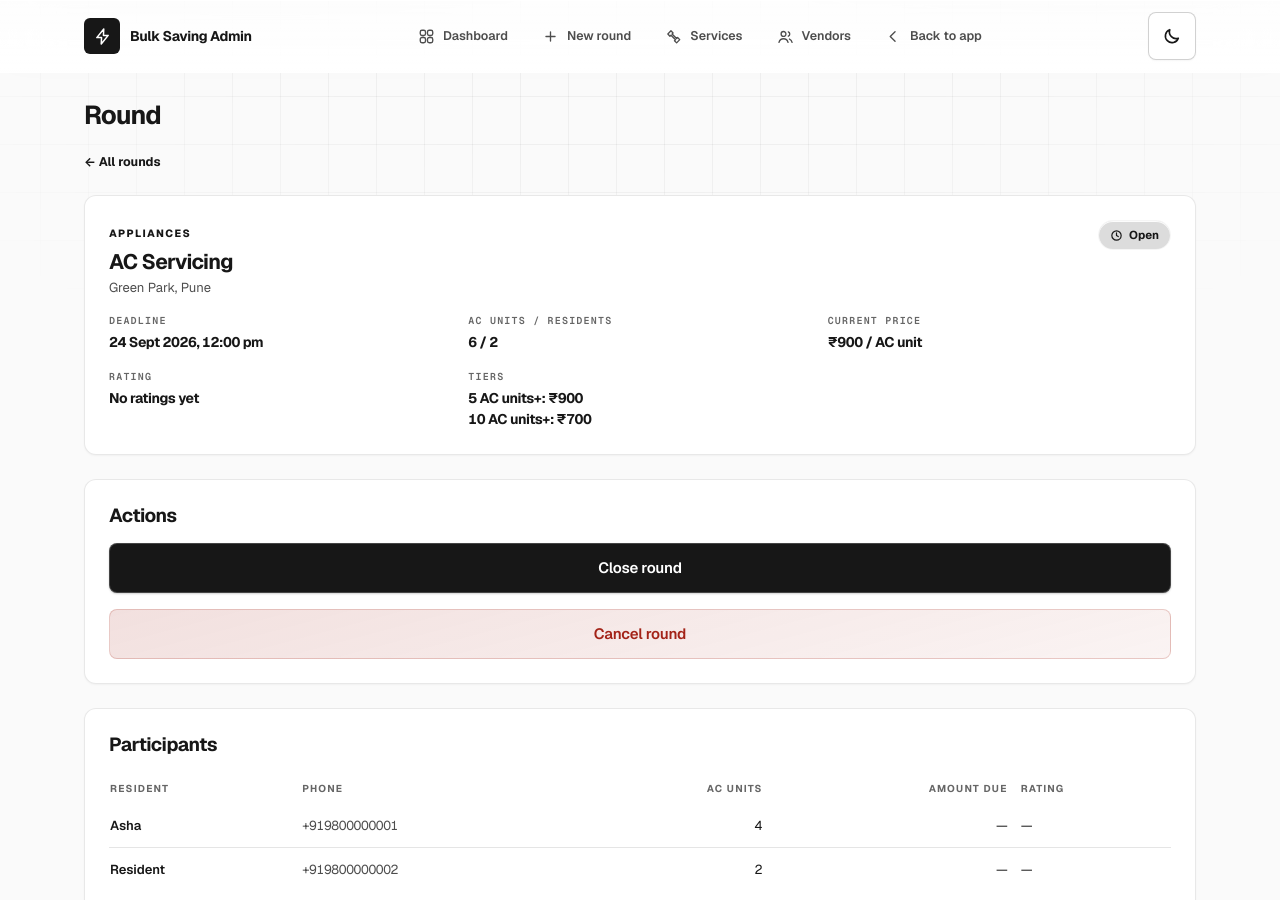
Test: AdminRoundDetailPage › a refused cancel stays in the sheet with its reason (FEAT-024 AC1)
Step 1. Click the button "Cancel round" → point(640, 634), box [109,609,1171,659]
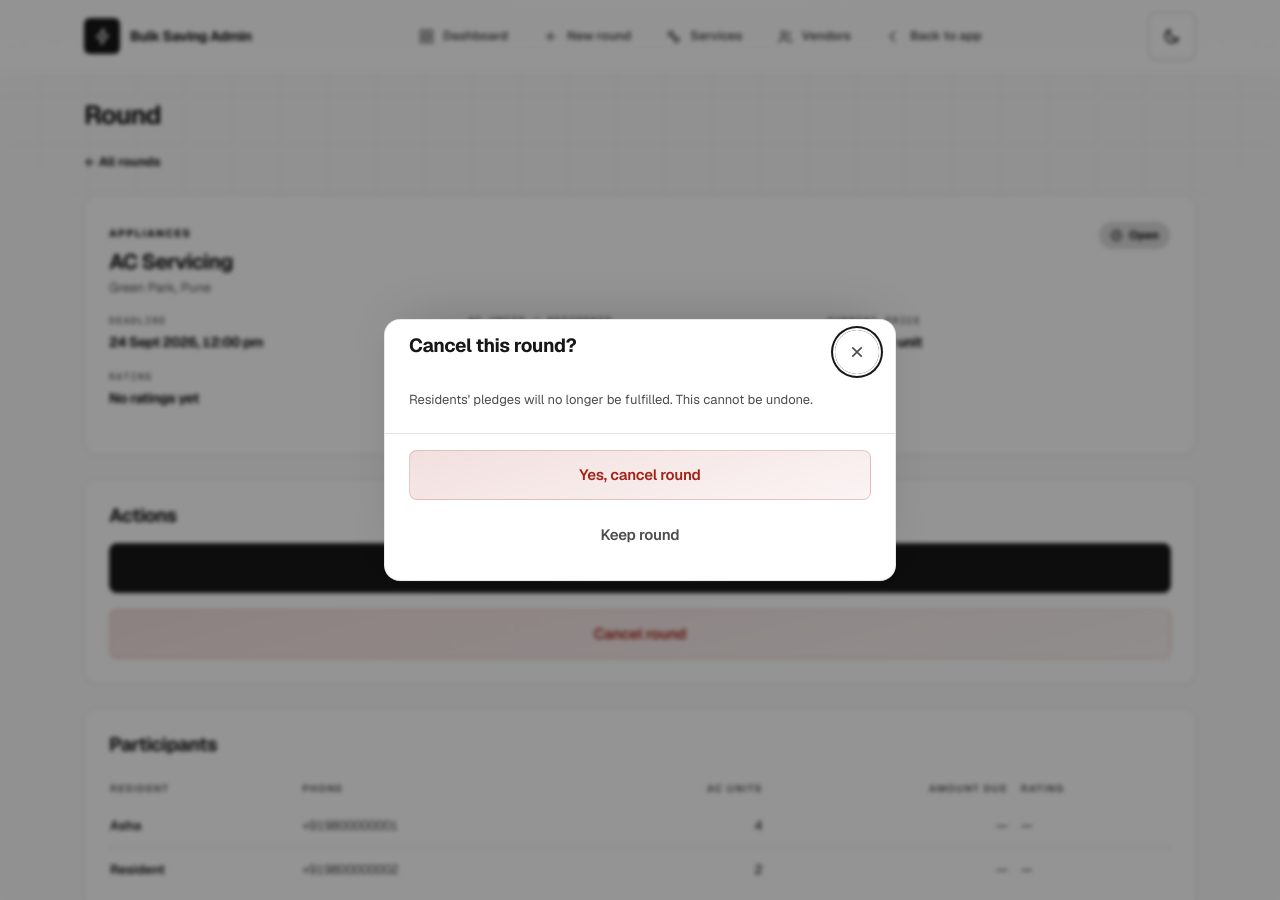
Step 2. Click the button "Yes, cancel round" → point(640, 475), box [409,450,871,500]
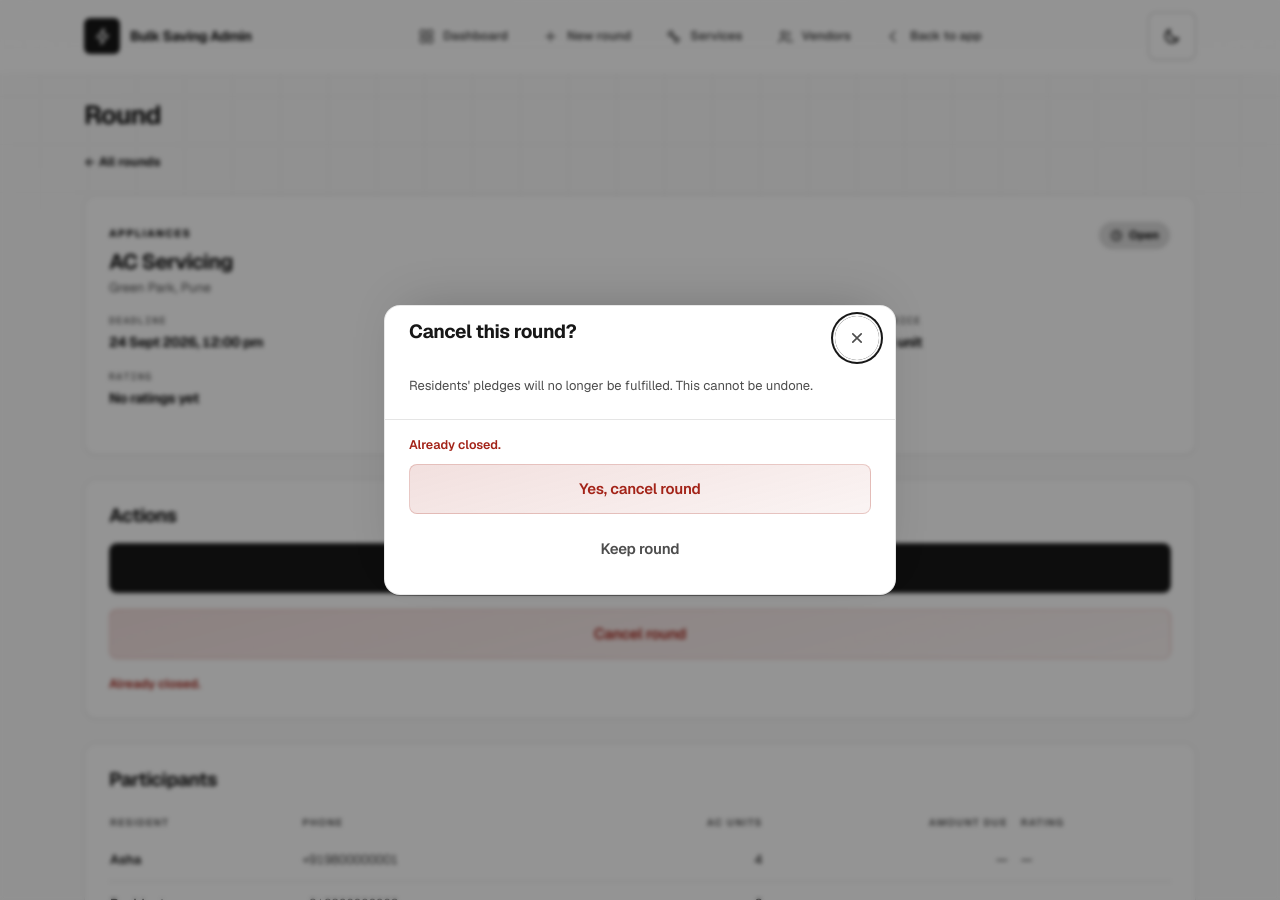
Expected: the dialog "Cancel this round?" is shown, [384,305,896,595]
Expected: the dialog shows "Already closed", [409,436,501,453]
